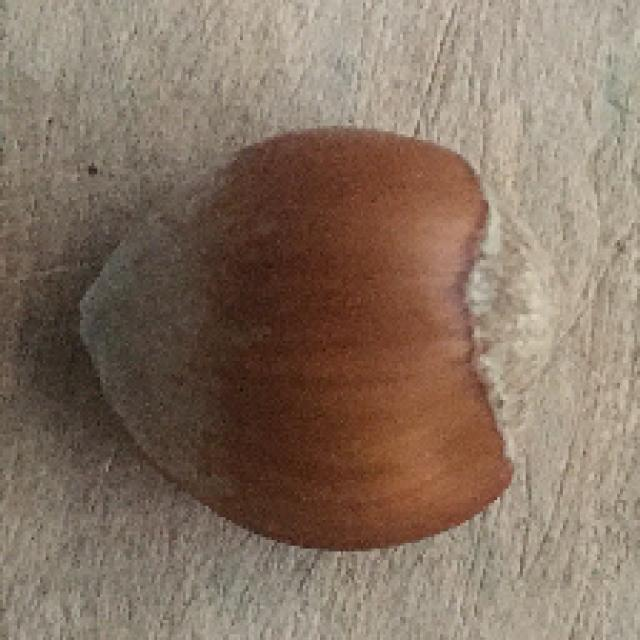QualityHazelnut: (78, 120, 571, 552)
